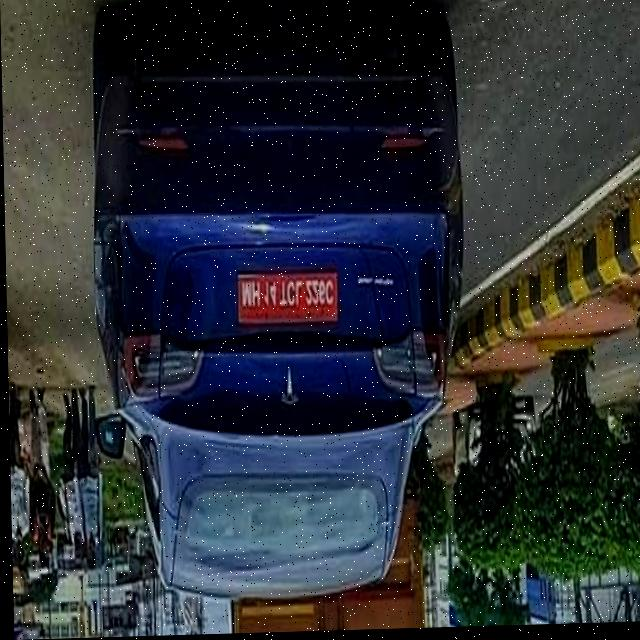plate: (232, 272, 338, 329)
